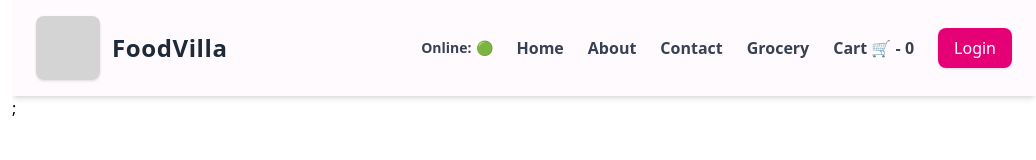
it: Header Component › should render Header component with login button
Click the button "Login". click: click(975, 48)
box: [938,28,1012,68]
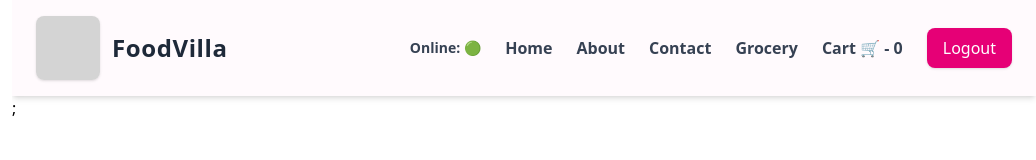
Expected: the button "Logout" is shown, [927,28,1012,68]
